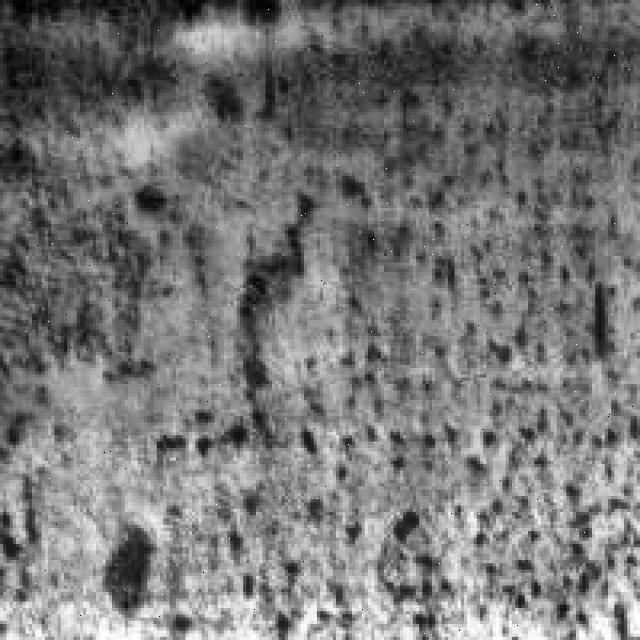Rolled_in_Scale: (10, 92, 640, 630)
